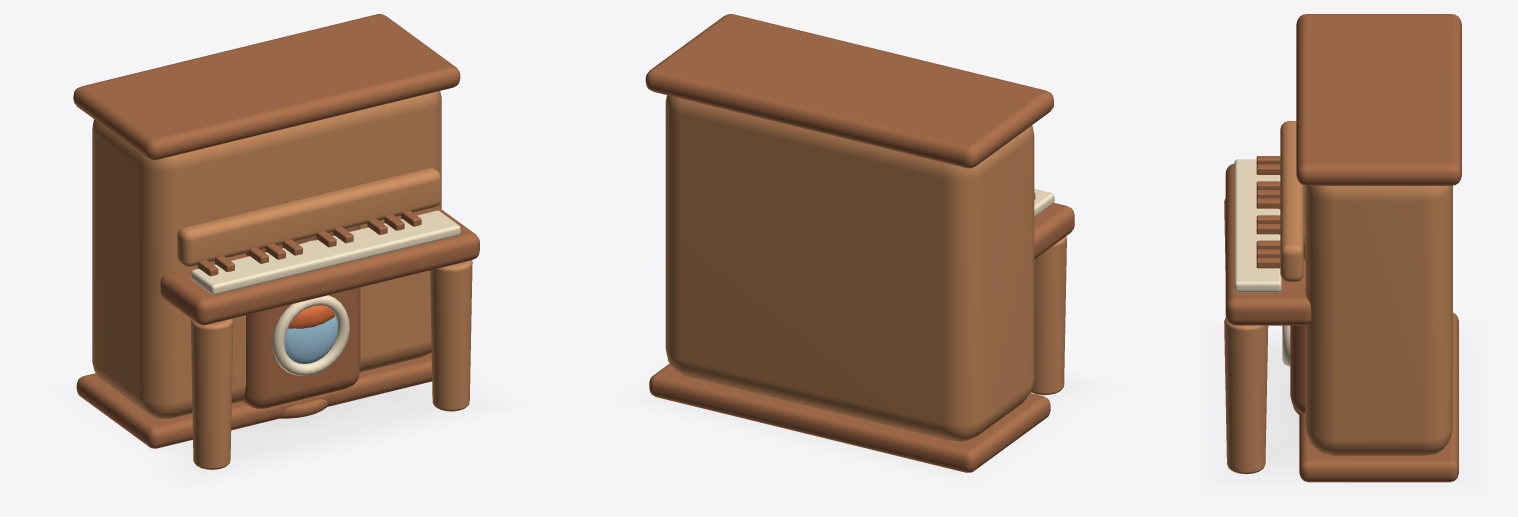
The model's file is interest_music_v1.glb.
The picture shows the model from 3 angles, left to right: view 1: azimuth 30°, elevation 25°; view 2: azimuth 150°, elevation 25°; view 3: azimuth 270°, elevation 25°; orthographic projection. The views are drawn at different scales.
Visible parts, largest first — view 1: piano_body, piano_lid, shadow_piano, piano, piano_fallboard, piano_key_bed, piano_plinth, speaker_cabinet, piano_keys_white, speaker_driver_02_ring, piano_keys_black, speaker_driver_02_cone (+2 smaller); view 2: piano_body, piano_lid, piano_plinth, shadow_piano, piano, piano_key_bed; view 3: piano_body, piano_lid, shadow_piano, piano, piano_plinth, piano_key_bed, piano_keys_white, piano_fallboard, piano_keys_black, speaker_cabinet, shadow_speaker, speaker_driver_02_ring.
Part boxes in pixels (bbox=[...]): piano_body: bbox=[92, 91, 441, 419]; piano_lid: bbox=[73, 14, 460, 160]; shadow_piano: bbox=[68, 378, 510, 485]; piano: bbox=[190, 260, 472, 469]; piano_fallboard: bbox=[177, 167, 441, 266]; piano_key_bed: bbox=[160, 208, 479, 325]; piano_plinth: bbox=[76, 352, 432, 448]; speaker_cabinet: bbox=[242, 225, 360, 408]; piano_keys_white: bbox=[191, 210, 460, 294]; speaker_driver_02_ring: bbox=[272, 295, 349, 375]; piano_keys_black: bbox=[197, 210, 421, 276]; speaker_driver_02_cone: bbox=[284, 316, 337, 363]; piano_body: bbox=[665, 95, 1034, 441]; piano_lid: bbox=[645, 14, 1053, 168]; piano_plinth: bbox=[649, 364, 1050, 472]; shadow_piano: bbox=[630, 373, 1106, 480]; piano: bbox=[1031, 236, 1066, 395]; piano_key_bed: bbox=[1034, 203, 1074, 258]; piano_body: bbox=[1305, 185, 1452, 455]; piano_lid: bbox=[1296, 14, 1461, 185]; shadow_piano: bbox=[1208, 326, 1477, 487]; piano: bbox=[1224, 198, 1268, 474]; piano_plinth: bbox=[1299, 313, 1458, 482]; piano_key_bed: bbox=[1225, 164, 1311, 325]; piano_keys_white: bbox=[1234, 159, 1281, 292]; piano_fallboard: bbox=[1280, 121, 1303, 282]; piano_keys_black: bbox=[1256, 156, 1280, 268]; speaker_cabinet: bbox=[1290, 185, 1305, 413]; shadow_speaker: bbox=[1267, 379, 1299, 440]; speaker_driver_02_ring: bbox=[1282, 325, 1290, 366].
Size of the model in its own units: 1.53 by 1.18 by 1.08.
Materials: 7 (1 with a texture image).
